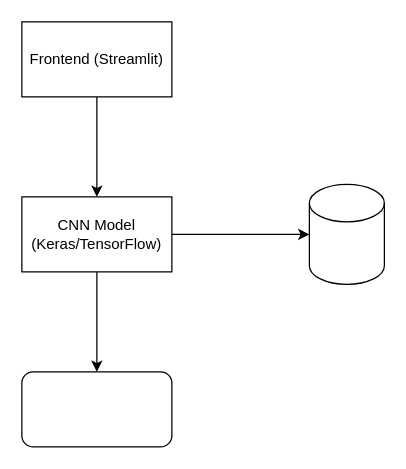
Image size: 406x469. Some labels were removed from this diagram. The shapes that lost their labels are listed below. From the top down, each one's centre as x and y in pixels, then its label:
At (x=346, y=233): "Gesture Logs Database".
At (x=96, y=409): "Predicted Sign".
